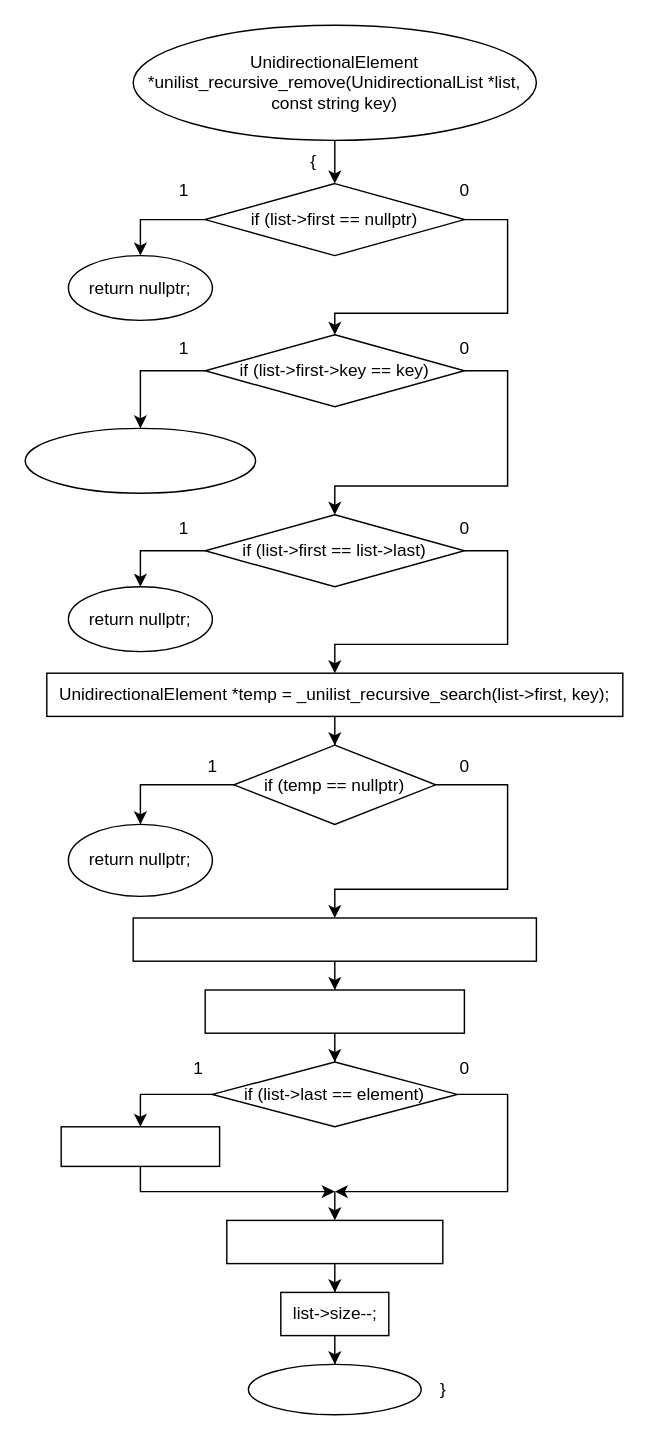
The diagram is 648 pixels wide and 1440 high, and some of its shapes have lost their labels. The centre of each missing label's shape, as x and y in pixels:
element->next = nullptr;: point (334, 1241)
list->last = temp;: point (140, 1145)
return element;: point (334, 1389)
return unilist_pop_first(list);: point (140, 460)
temp->next = element->next;: point (334, 1011)
UnidirectionalElement *element = temp->next;: point (334, 939)
